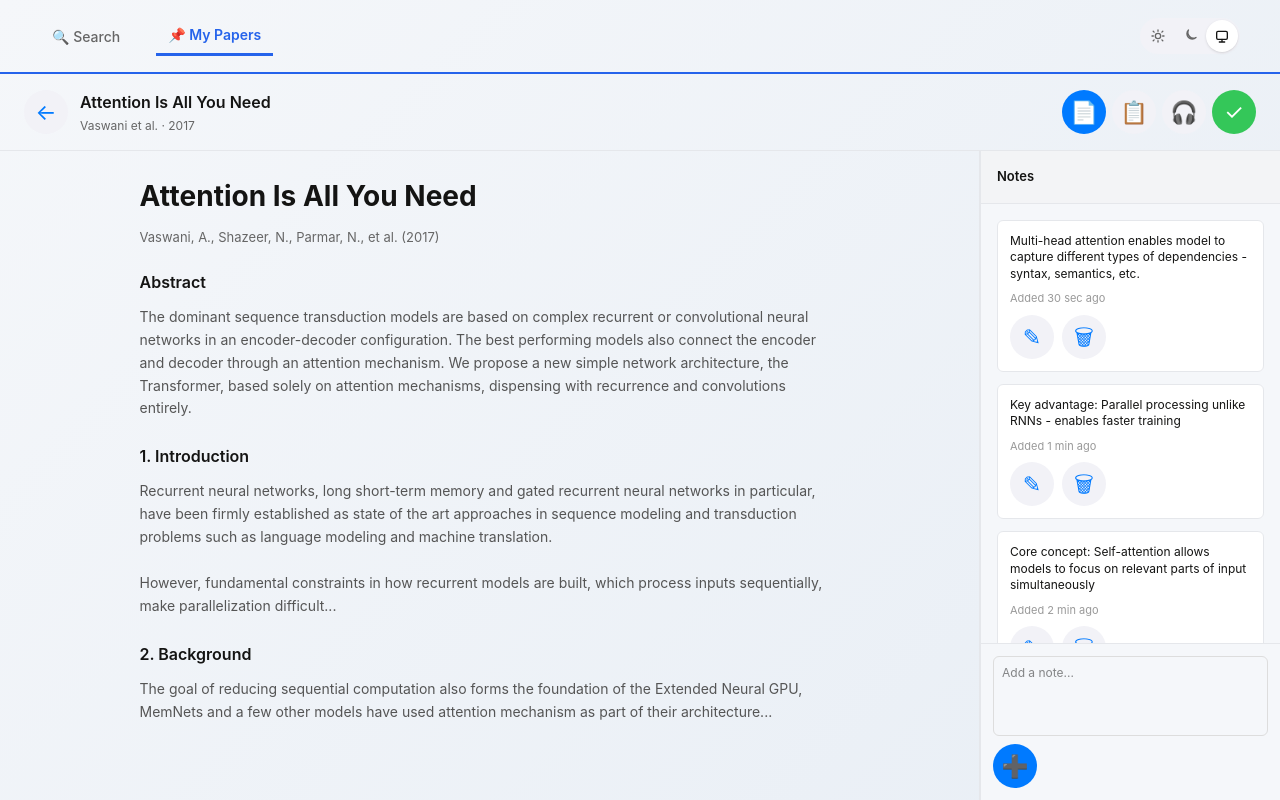
Test: UX: Visual reader › When the user deletes a sidebar note, Then it disappears
The width and height of the screenshot is (1280, 800).
Expected: the text "Key advantage: Parallel processing" is shown, left=1010, top=396, right=1245, bottom=428
What coordinates should you click on to do the following:
click the button named "delete"
I would click on:
 (1084, 484)
Its box is left=1062, top=462, right=1106, bottom=506.
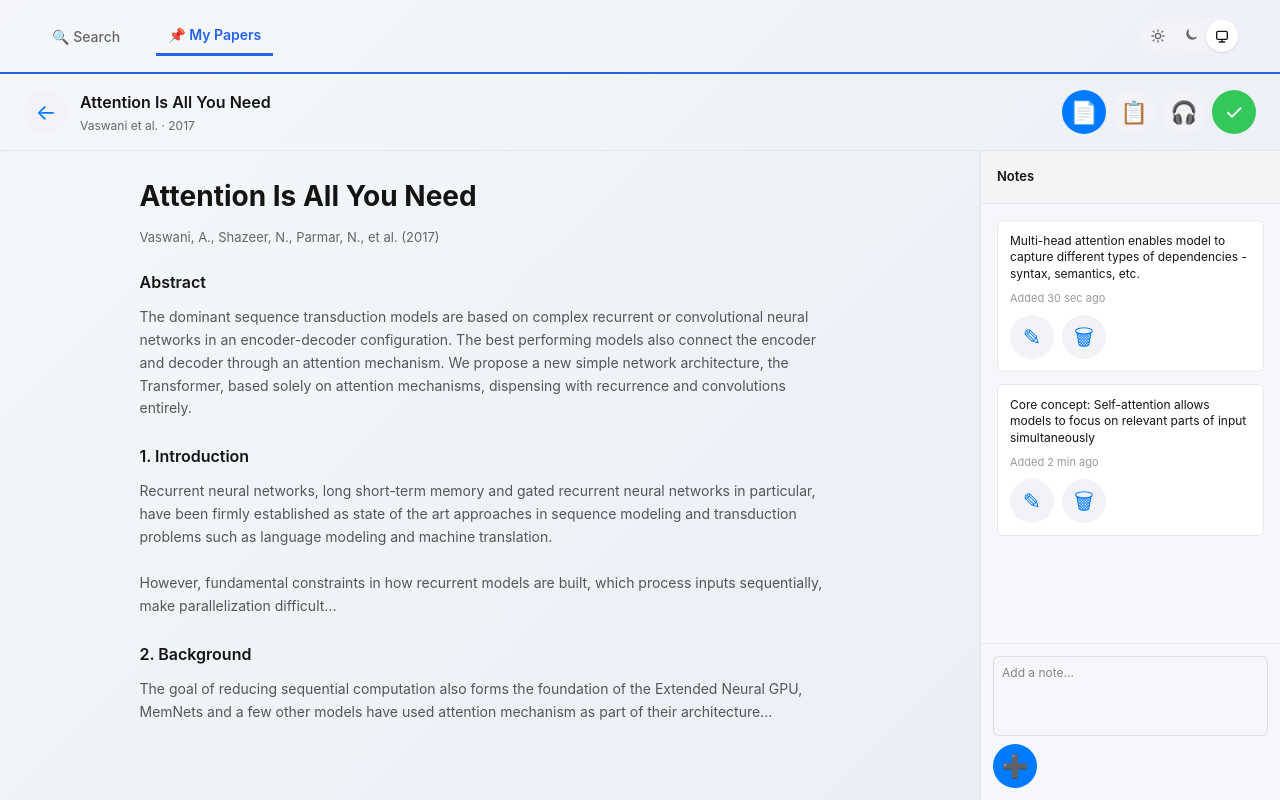
Now the text "Key advantage: Parallel processing" is gone
